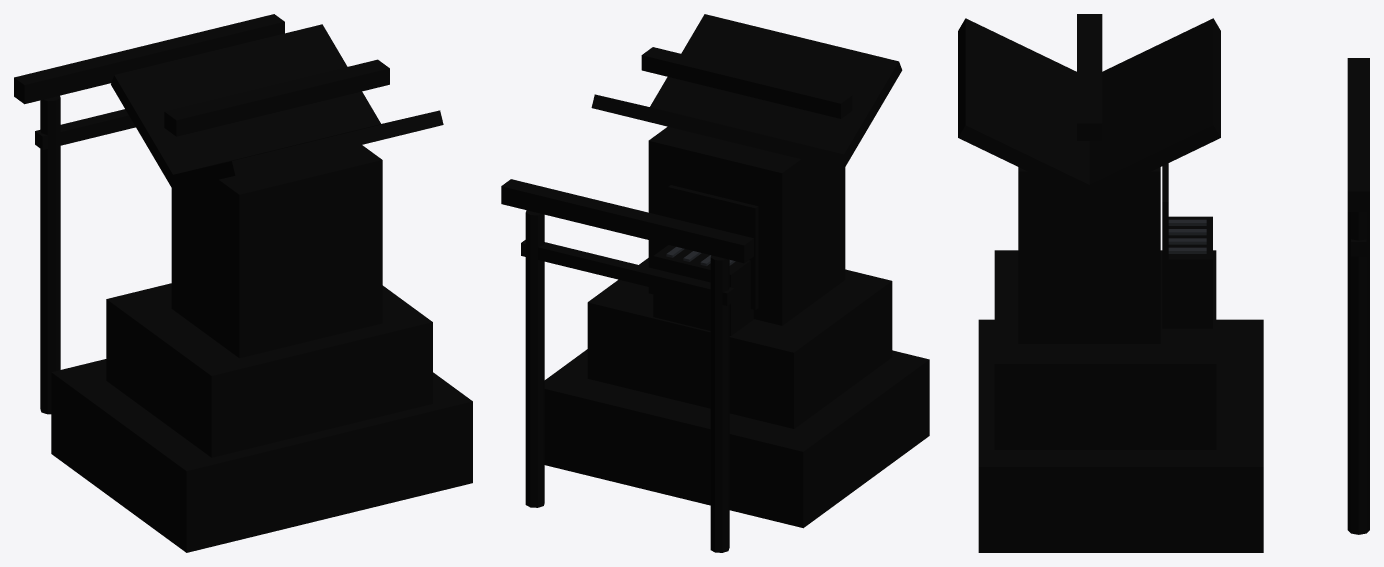
The model's file is Hokora.fbx.
The picture shows the model from 3 angles, left to right: view 1: azimuth 30°, elevation 25°; view 2: azimuth 150°, elevation 25°; view 3: azimuth 270°, elevation 25°; orthographic projection. The views are drawn at different scales.
Parts seen in each view (by area): view 1: Base.002, Shrine, Roof, Torii; view 2: Base.002, Roof, Shrine, Torii, Offering; view 3: Base.002, Roof, Shrine, Torii, Offering, OfferingSlats.
Boxes of the visible parts, x1,y1,x2,y2 form: Base.002: (51, 283, 472, 552); Shrine: (171, 145, 382, 358); Roof: (111, 24, 443, 189); Torii: (14, 14, 284, 414); Base.002: (544, 258, 929, 528); Roof: (591, 14, 902, 168); Shrine: (648, 126, 845, 325); Torii: (501, 179, 753, 552); Offering: (653, 245, 753, 335); Base.002: (978, 250, 1263, 552); Roof: (958, 14, 1220, 199); Shrine: (1018, 163, 1168, 343); Torii: (1347, 58, 1369, 534); Offering: (1162, 216, 1212, 328); OfferingSlats: (1168, 219, 1206, 253).
Bounding box in the file's own units: 1.1 × 1.43 × 1.3.
